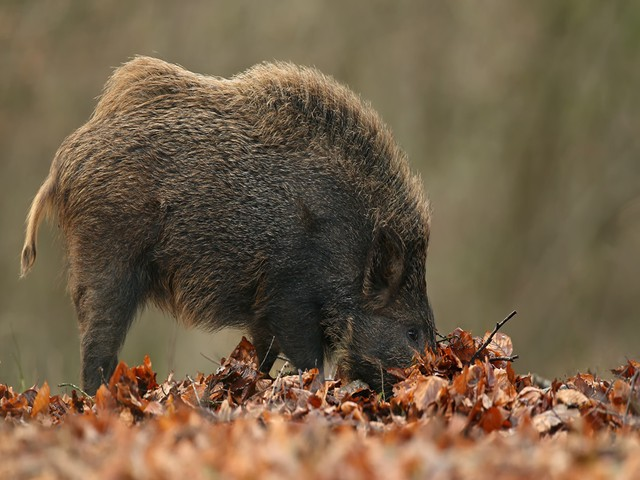Pig: (18, 46, 439, 389)
